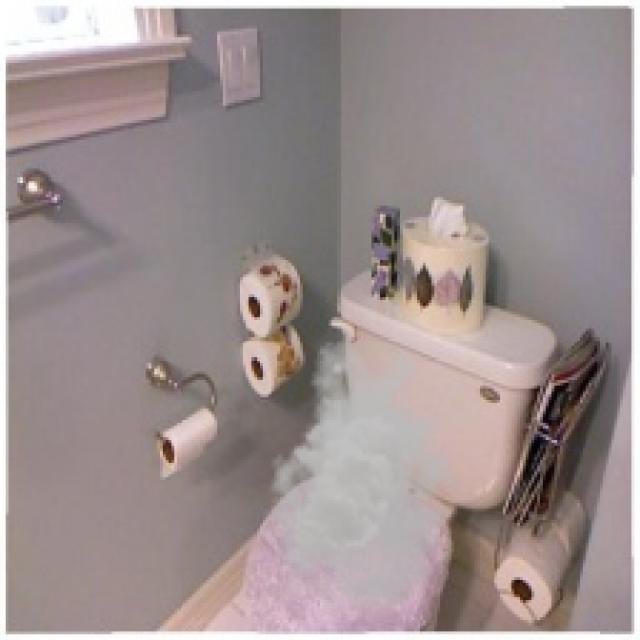Smoke: (262, 337, 474, 612)
